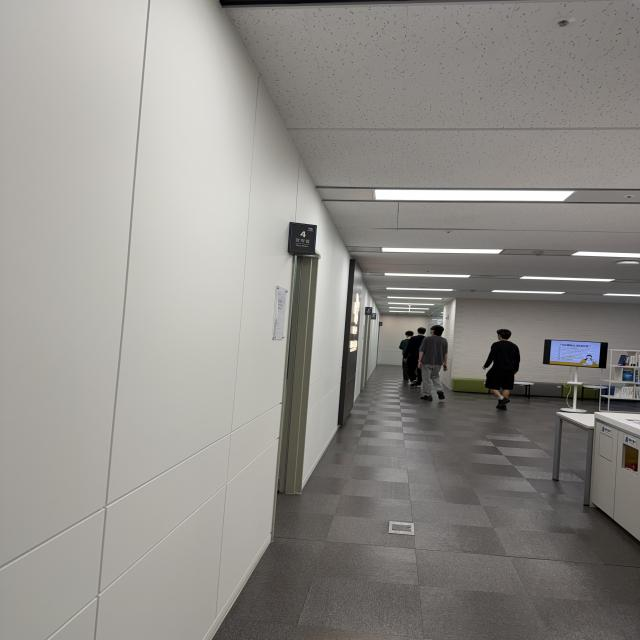sign: (288, 222, 316, 254)
